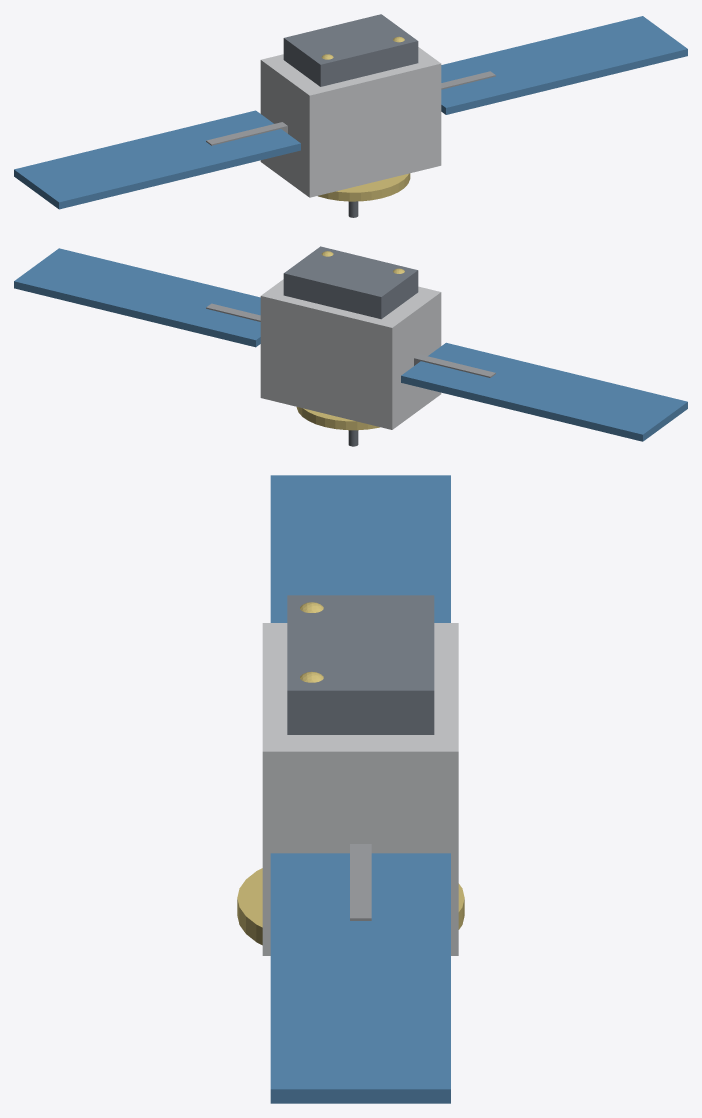
Rendered from kleo_satellite_broadband.glb.
The picture shows the model from 3 angles, top to bottom: view 1: azimuth 30°, elevation 25°; view 2: azimuth 150°, elevation 25°; view 3: azimuth 270°, elevation 25°; orthographic projection. The views are drawn at different scales.
Parts seen in each view (by area): view 1: bus, panel_left, panel_right, payload, dish, boom_left, boom_right; view 2: bus, panel_left, panel_right, payload, dish, boom_left, boom_right; view 3: panel_right, bus, panel_left, payload, dish, boom_right.
Boxes of the visible parts, x1,y1,x2,y2 form: bus: (260,47,441,197); panel_left: (14,110,300,209); panel_right: (441,16,687,114); payload: (283,14,418,86); dish: (318,173,410,201); boom_left: (206,122,287,145); boom_right: (441,71,495,89); bus: (260,279,441,429); panel_left: (401,342,687,441); panel_right: (14,248,260,347); payload: (283,246,418,319); dish: (296,407,379,430); boom_left: (414,354,495,377); boom_right: (206,303,260,321); panel_right: (270,853,450,1103); bus: (262,623,458,955); panel_left: (270,475,450,622); payload: (287,595,434,734); dish: (237,868,464,945); boom_right: (350,844,371,920).
Size of the model in its own units: 7.41 by 1.99 by 1.16.
